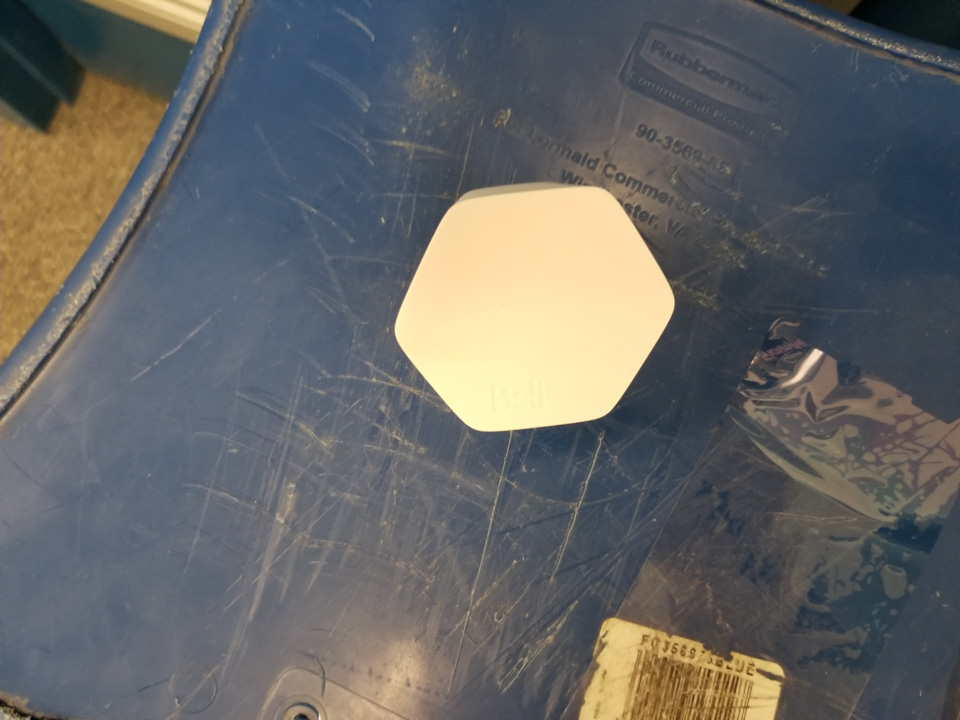pod: (389, 175, 683, 436)
